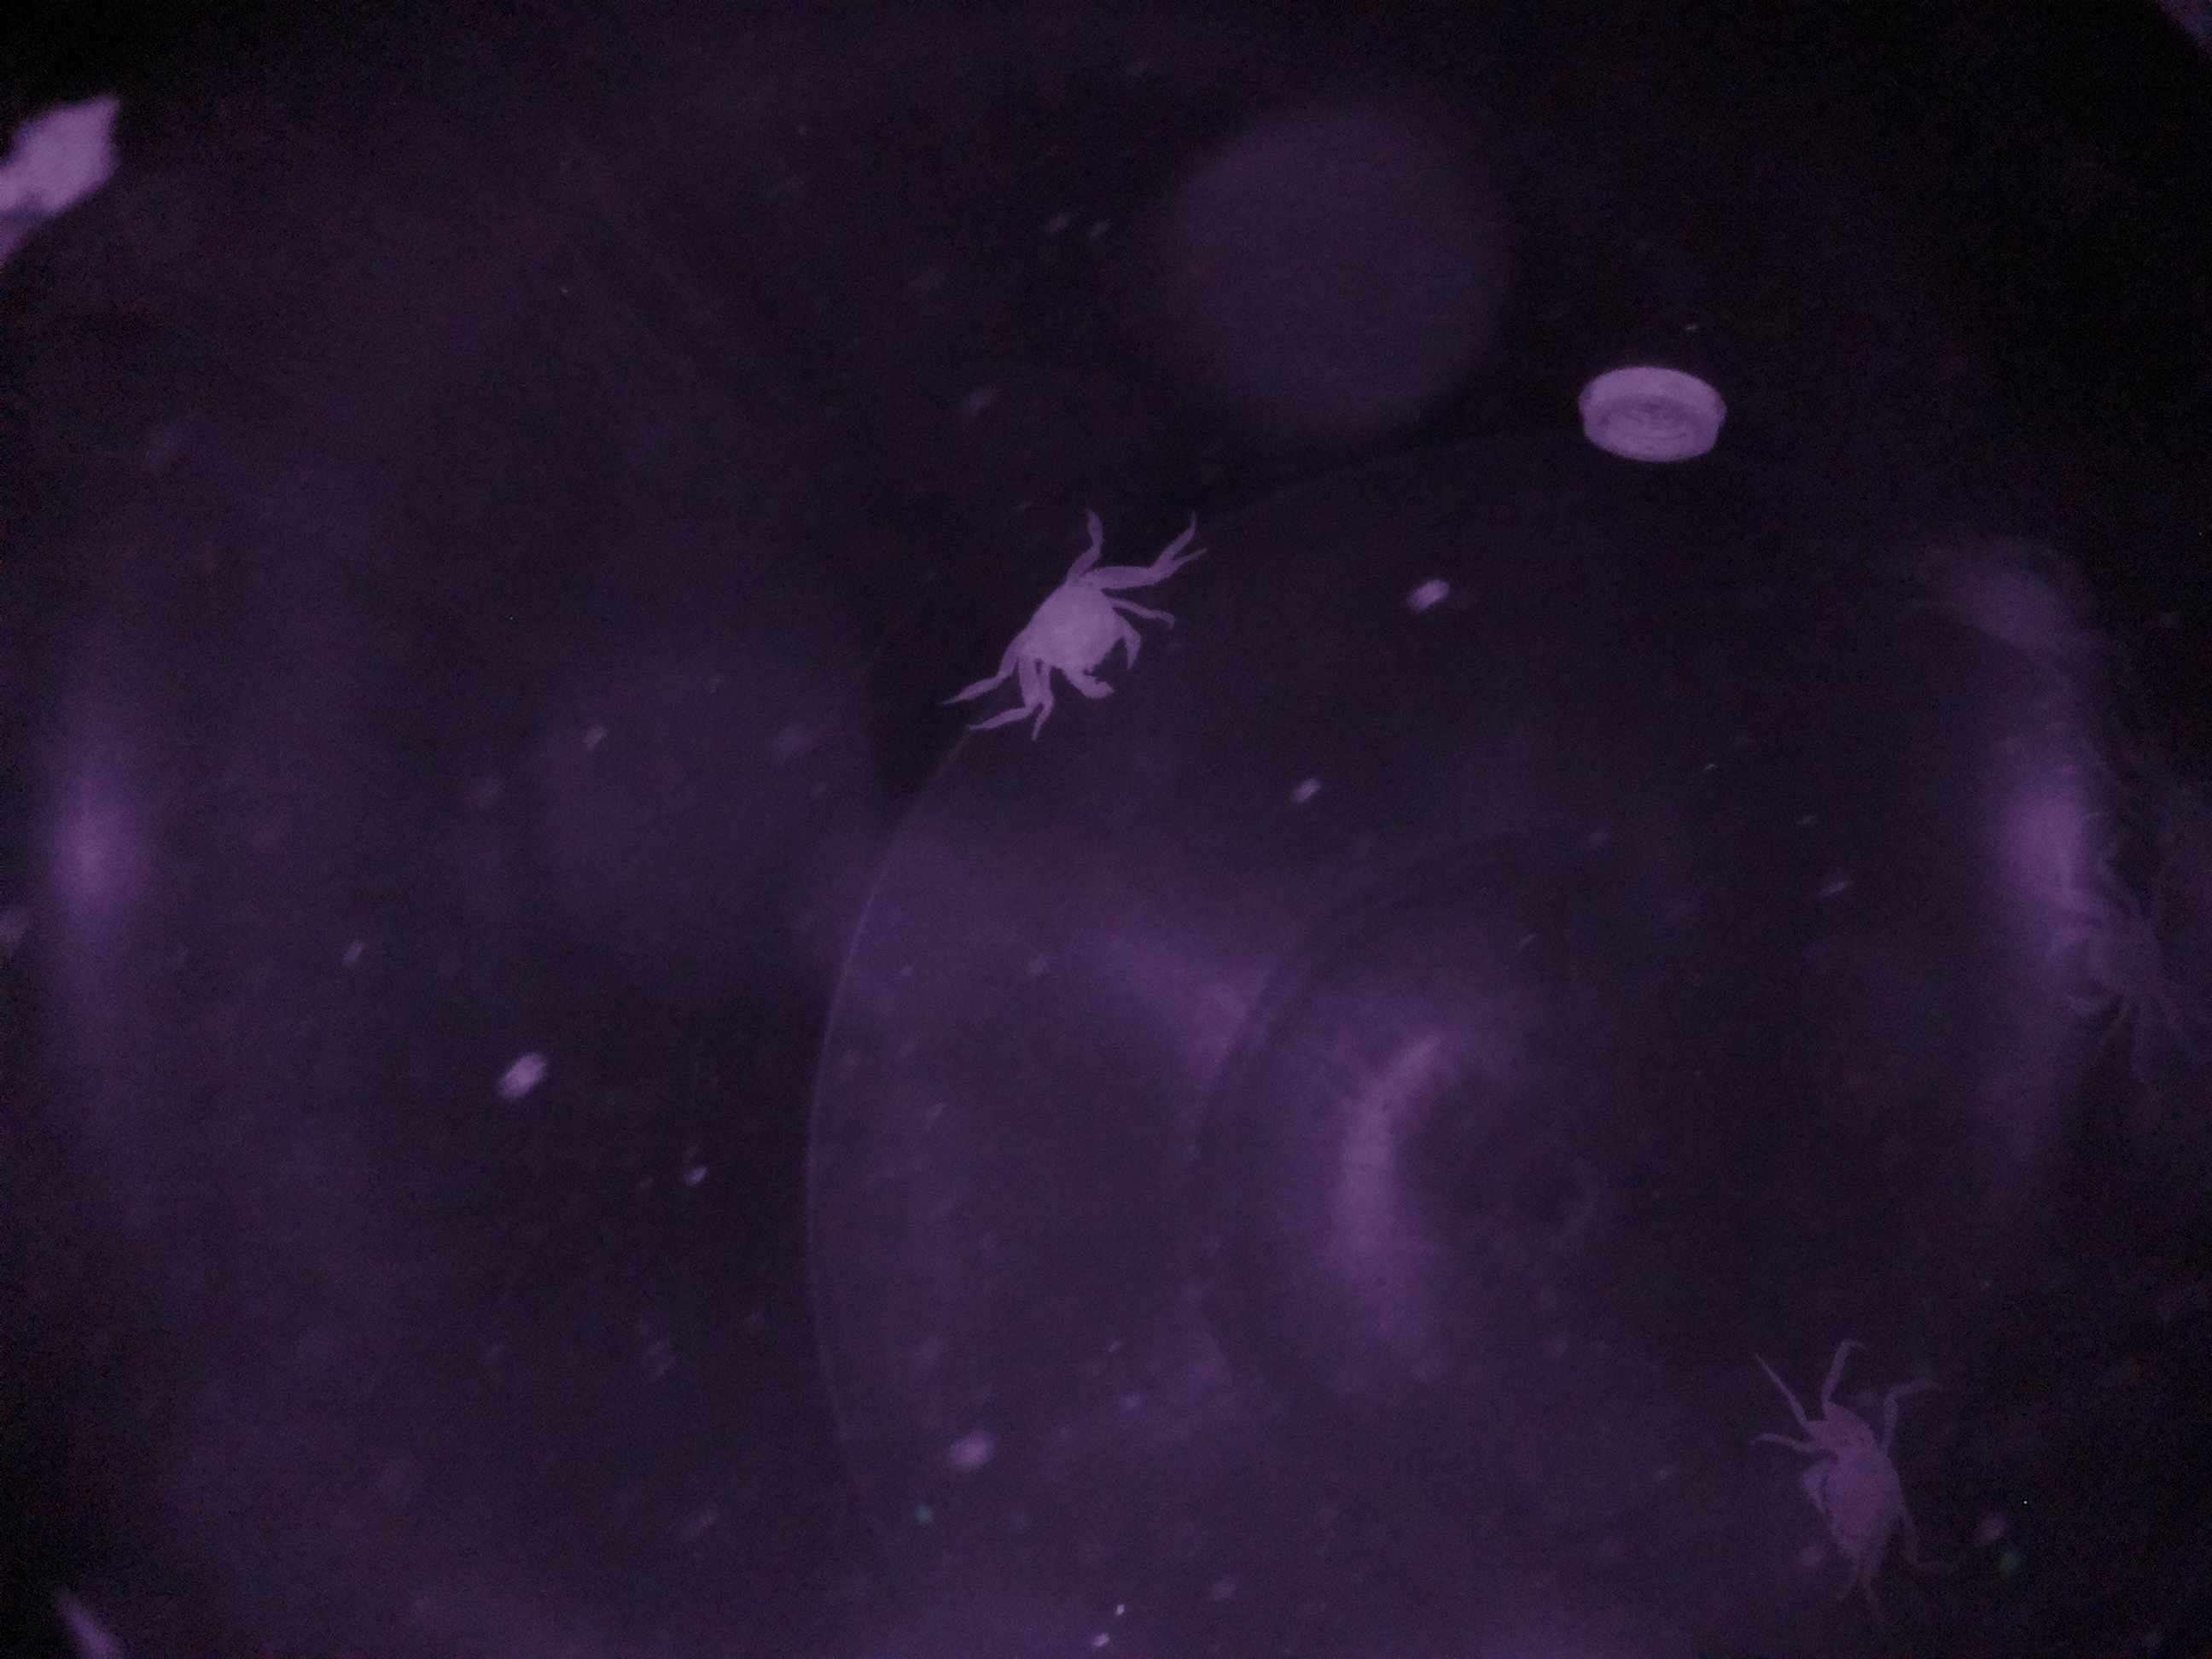Crab: (1761, 1380, 1949, 1622), (977, 538, 1172, 730)
